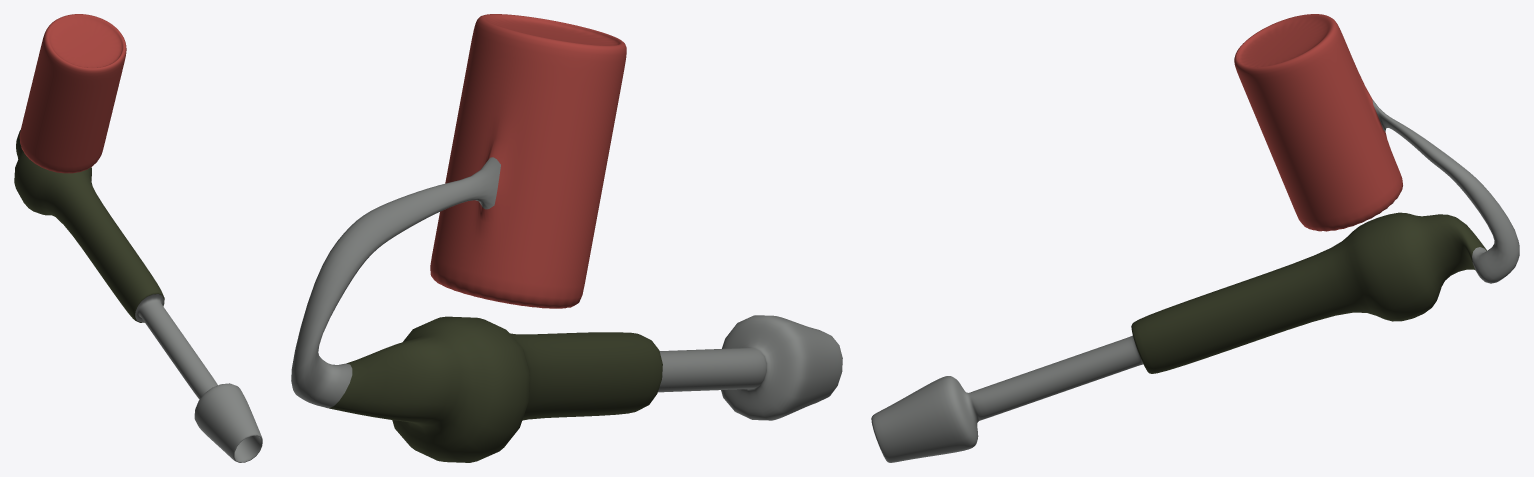
The model's file is coś_Palnik.fbx.
The picture shows the model from 3 angles, left to right: view 1: azimuth 30°, elevation 25°; view 2: azimuth 150°, elevation 25°; view 3: azimuth 270°, elevation 25°; orthographic projection. The views are drawn at different scales.
Visible parts, largest first — view 1: Cube.005; view 2: Cube.005; view 3: Cube.005.
Part boxes in pixels (left/top/right/bottom): Cube.005: left=14, top=14, right=262, bottom=462; Cube.005: left=291, top=14, right=842, bottom=462; Cube.005: left=871, top=14, right=1519, bottom=462.
Bounding box in the file's own units: 884 × 2890 × 3948.
